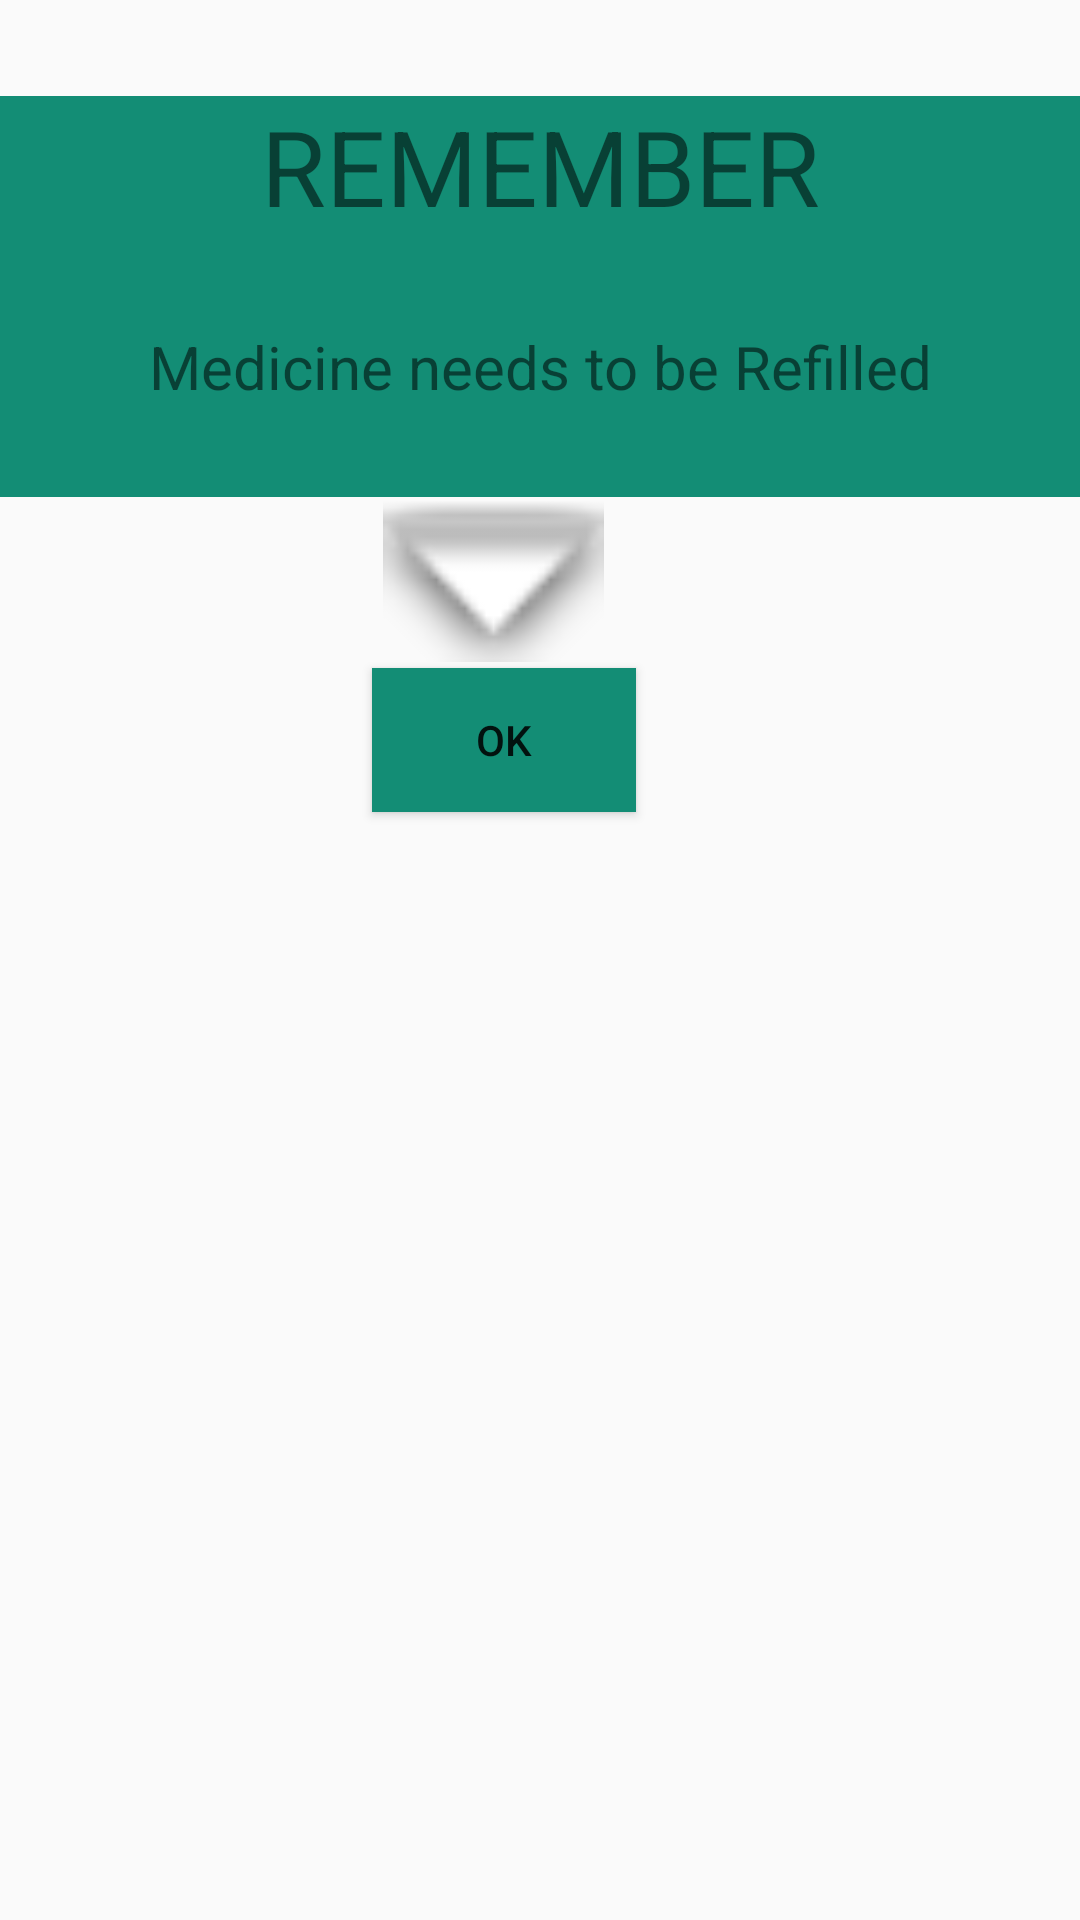

Screen size 1080×1920. Icon name, then its box in pixels as (x1, y1, x2, y2):
arrow down float: (383, 506, 604, 657)
